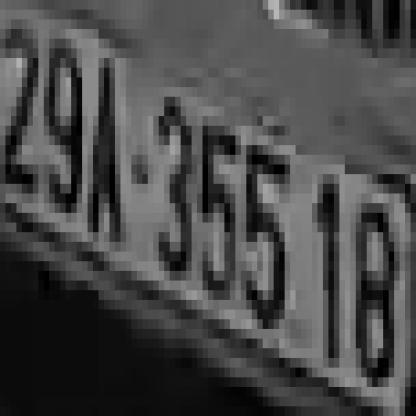1: (301, 164, 350, 358)
3: (153, 97, 197, 271)
5: (240, 145, 284, 319), (197, 126, 235, 300)
8: (345, 203, 394, 377)
9: (44, 48, 82, 204)
A: (87, 58, 126, 232)
